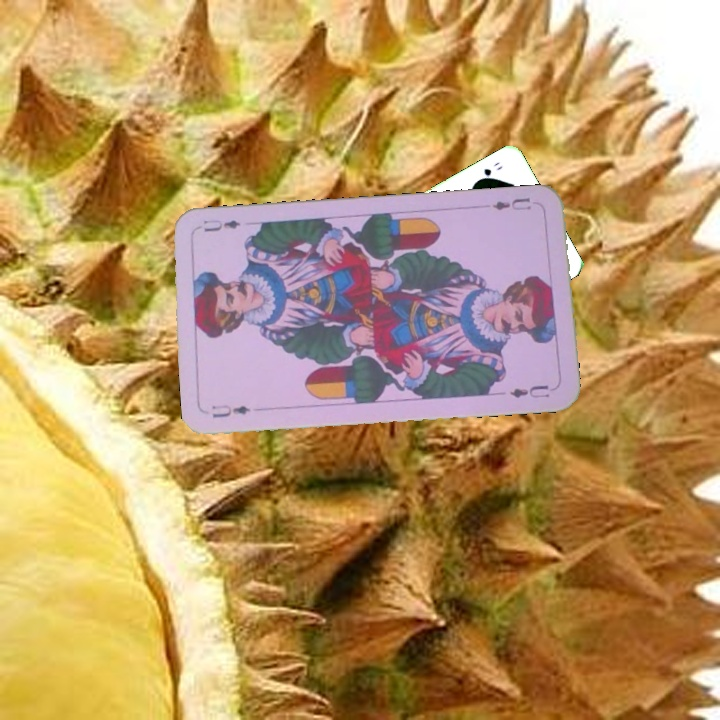EU: (208, 400, 253, 421), (488, 193, 534, 213)
GO: (473, 158, 505, 184)
